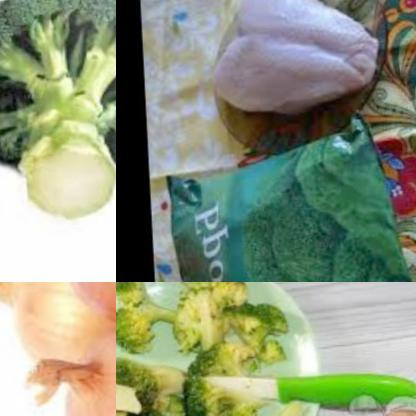broccoli: (0, 0, 116, 231), (237, 195, 407, 282), (116, 282, 194, 365), (217, 296, 295, 375), (116, 351, 190, 416), (182, 282, 237, 354), (220, 396, 308, 416)
onion: (0, 282, 116, 367), (46, 310, 116, 416)
